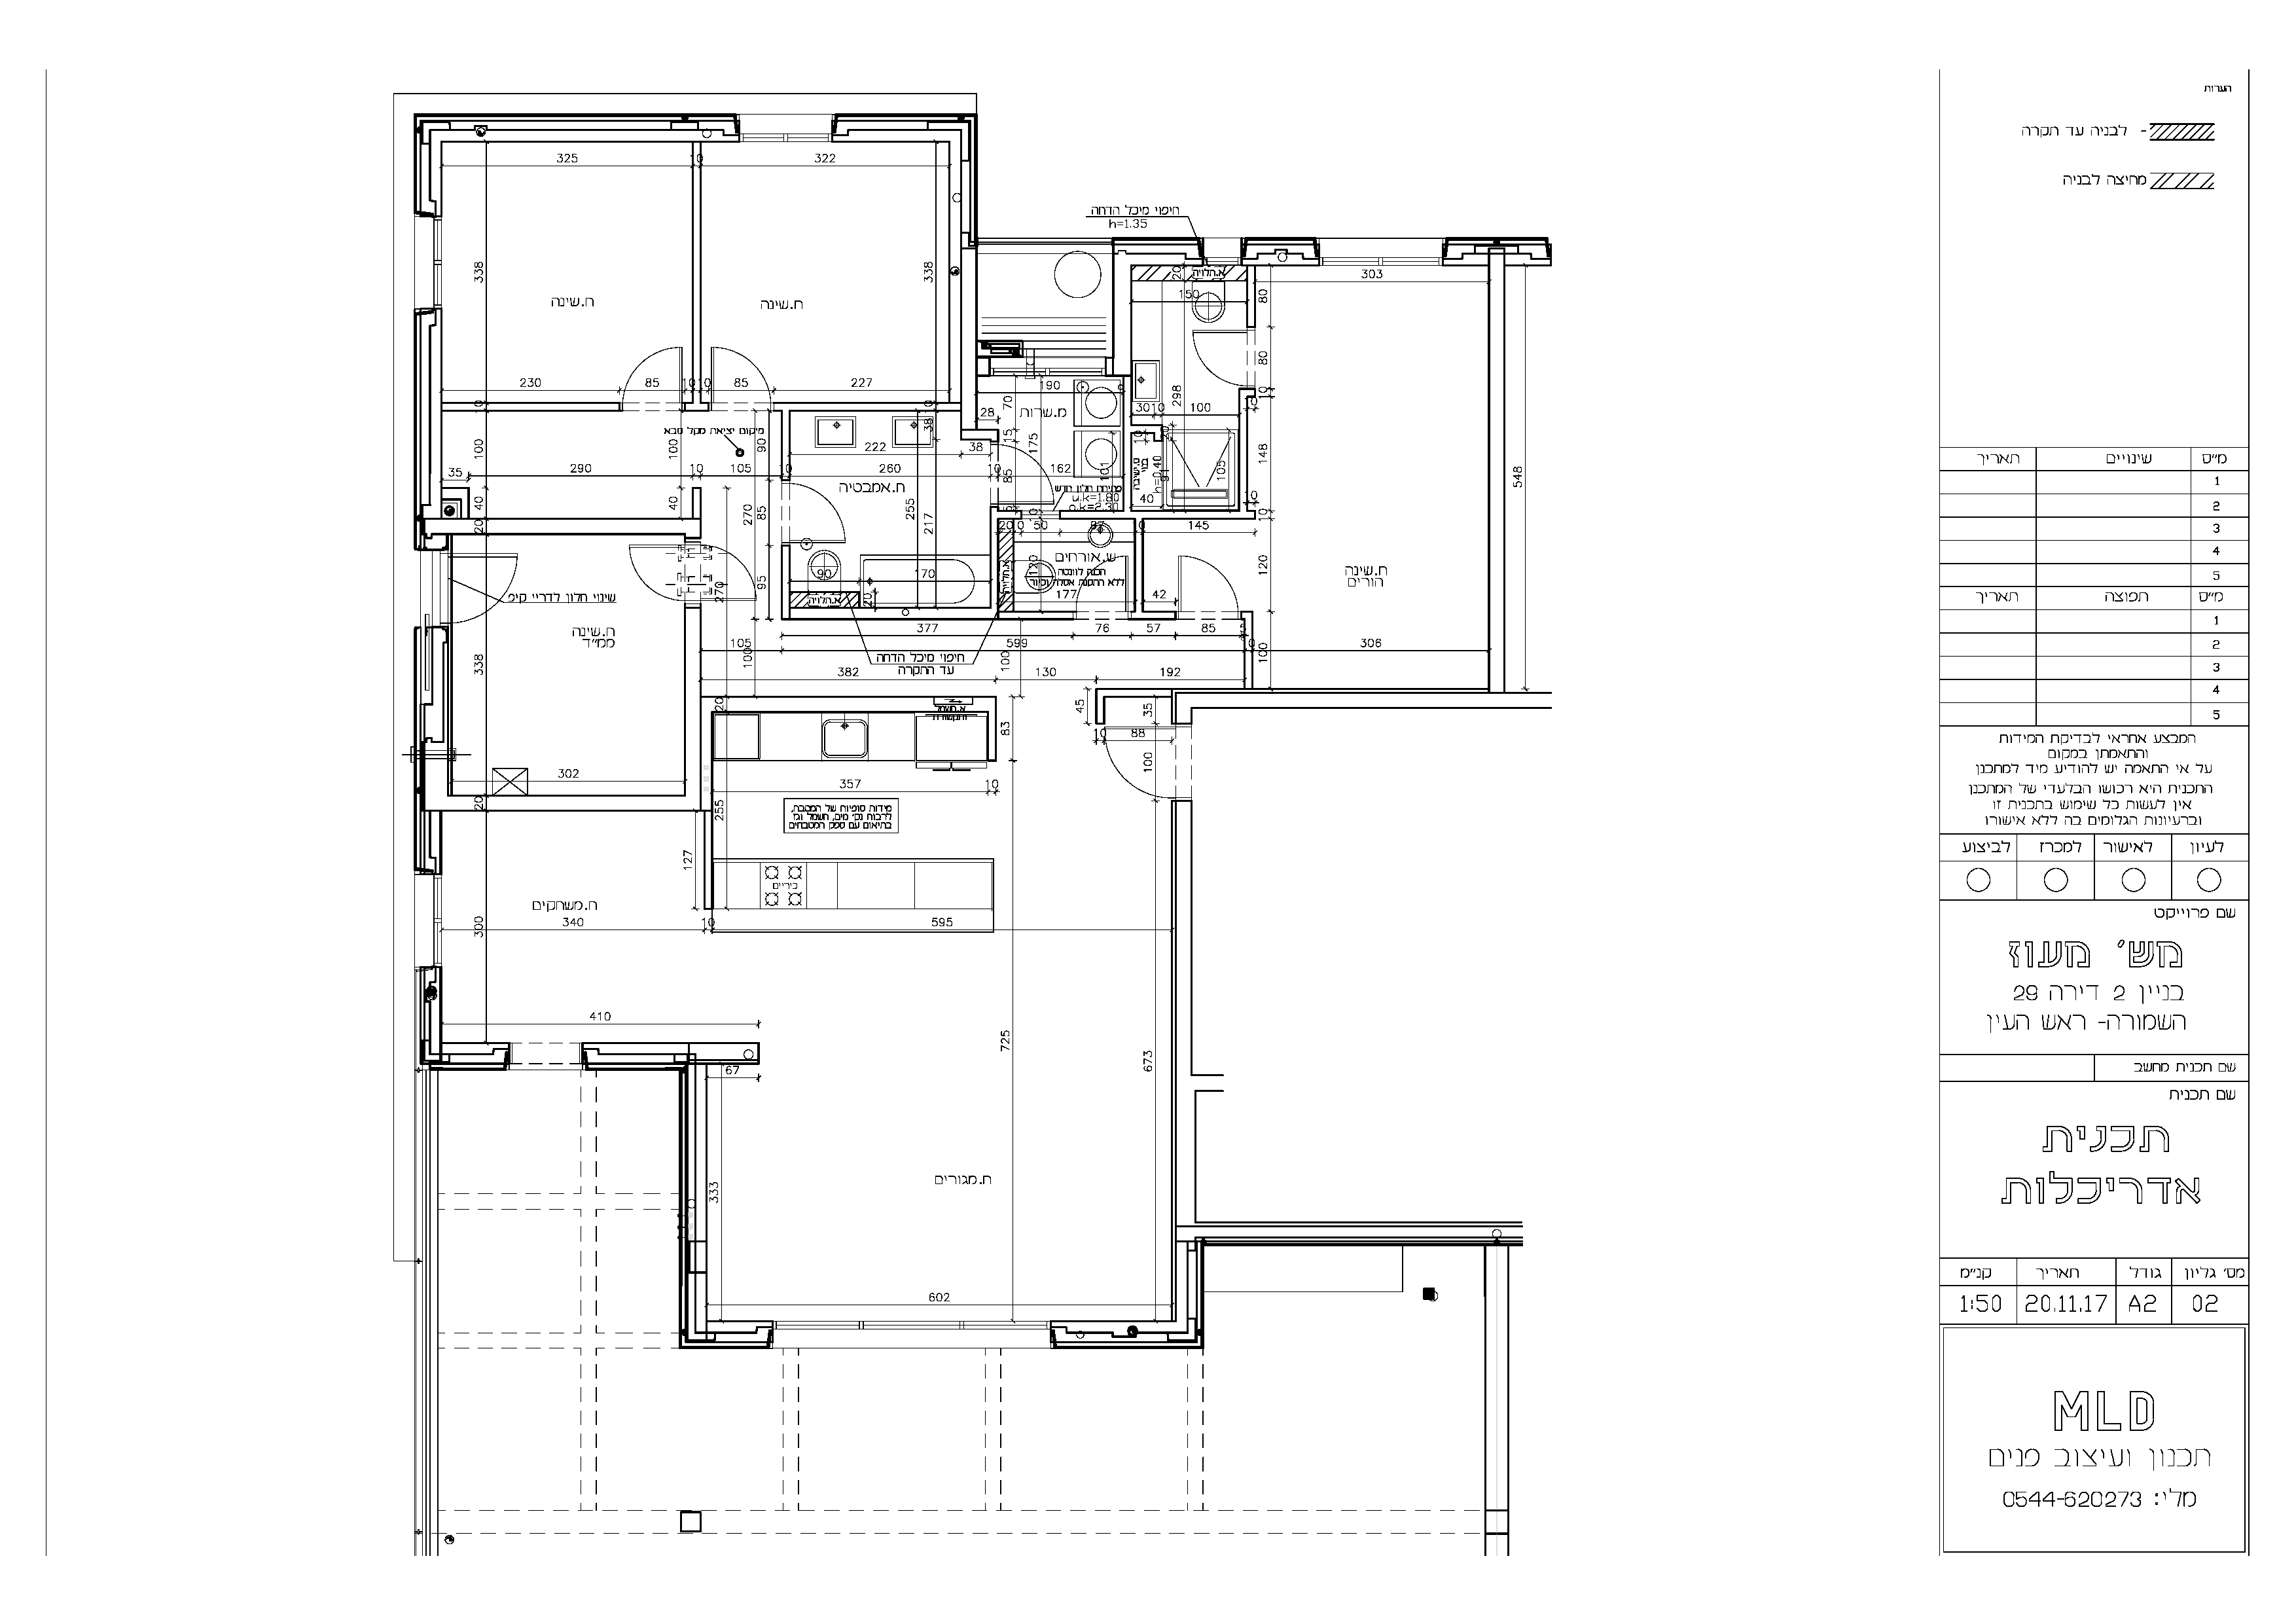door: (1175, 547, 1244, 610), (706, 334, 776, 395), (615, 540, 680, 605), (617, 336, 685, 397), (457, 545, 525, 605), (1184, 323, 1240, 387), (792, 480, 847, 545)
wall: (422, 93, 977, 118), (1177, 692, 1560, 722), (393, 95, 413, 663), (1173, 798, 1198, 1227), (1156, 930, 1172, 1311), (683, 615, 701, 810)
window: (738, 134, 783, 142), (434, 264, 443, 308), (789, 134, 831, 142), (434, 216, 441, 260), (434, 923, 441, 965), (434, 875, 441, 916)
